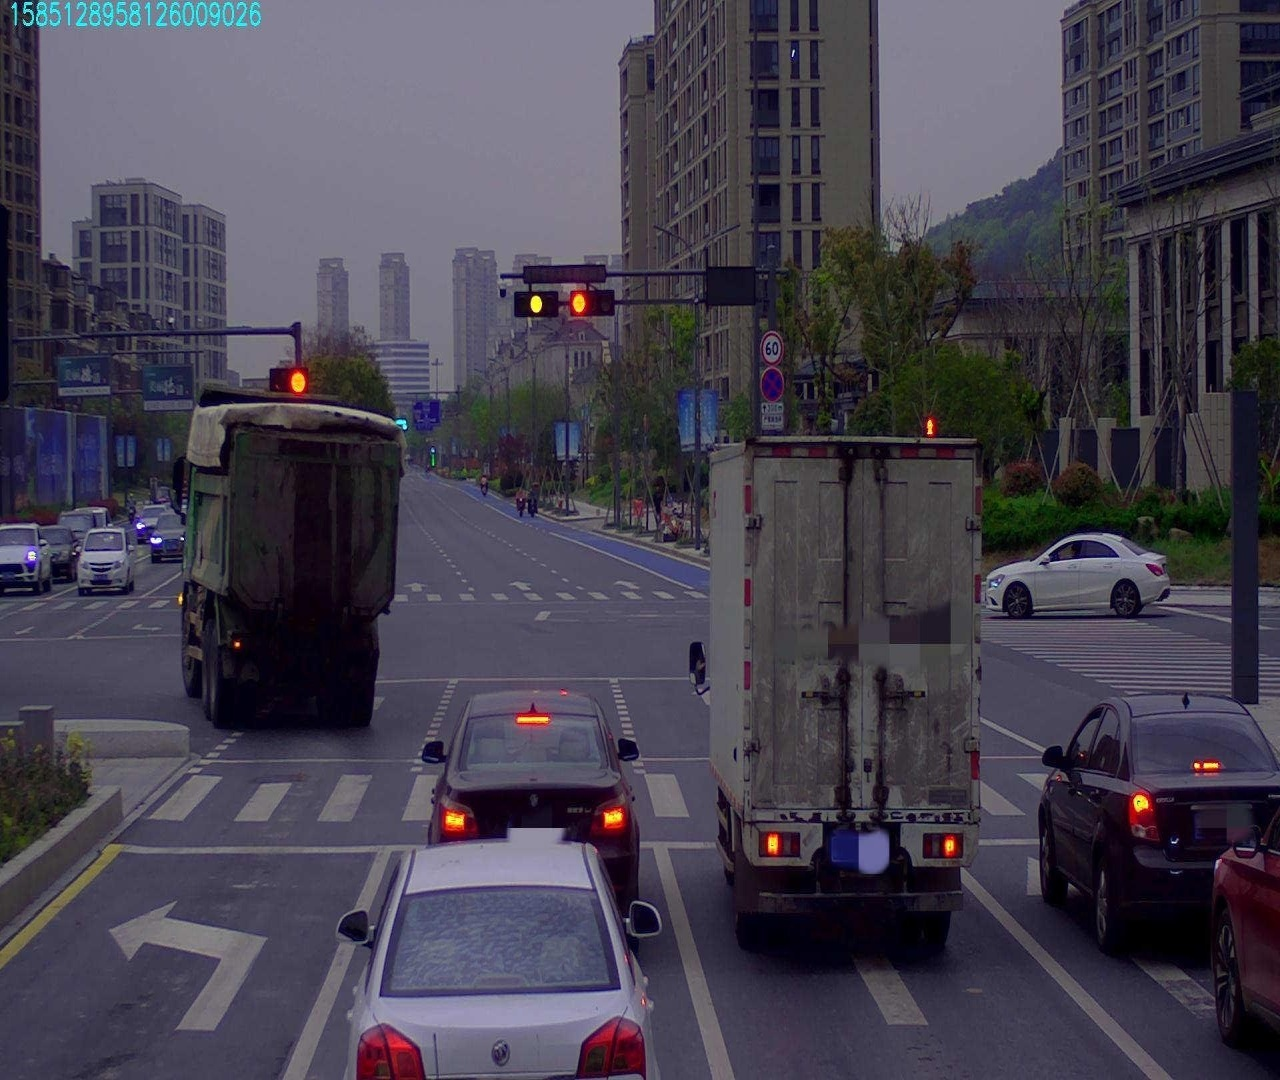red: (567, 284, 614, 322)
yellow: (512, 292, 560, 322)
